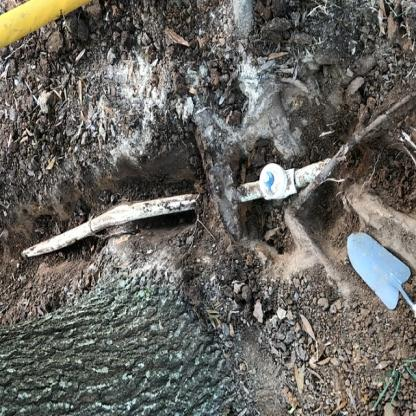PVC: (21, 191, 197, 259), (236, 158, 332, 203), (1, 3, 90, 49)
